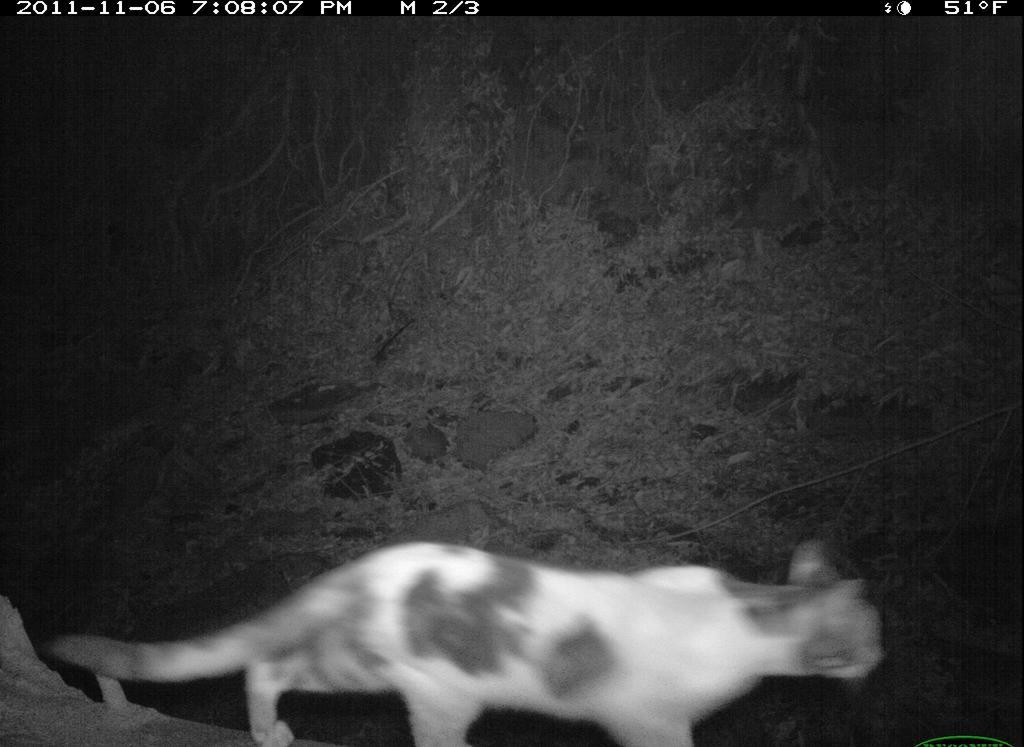cat: (45, 534, 899, 747)
